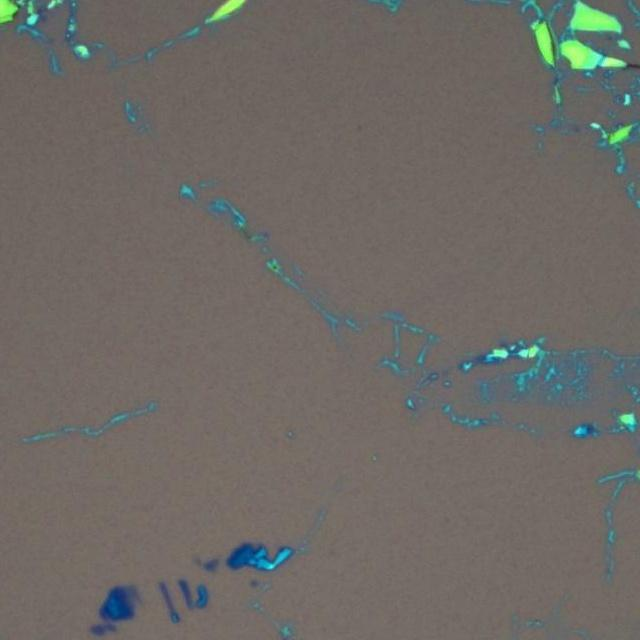monolayer-eWW4: (124, 584, 142, 610), (212, 561, 218, 570)
